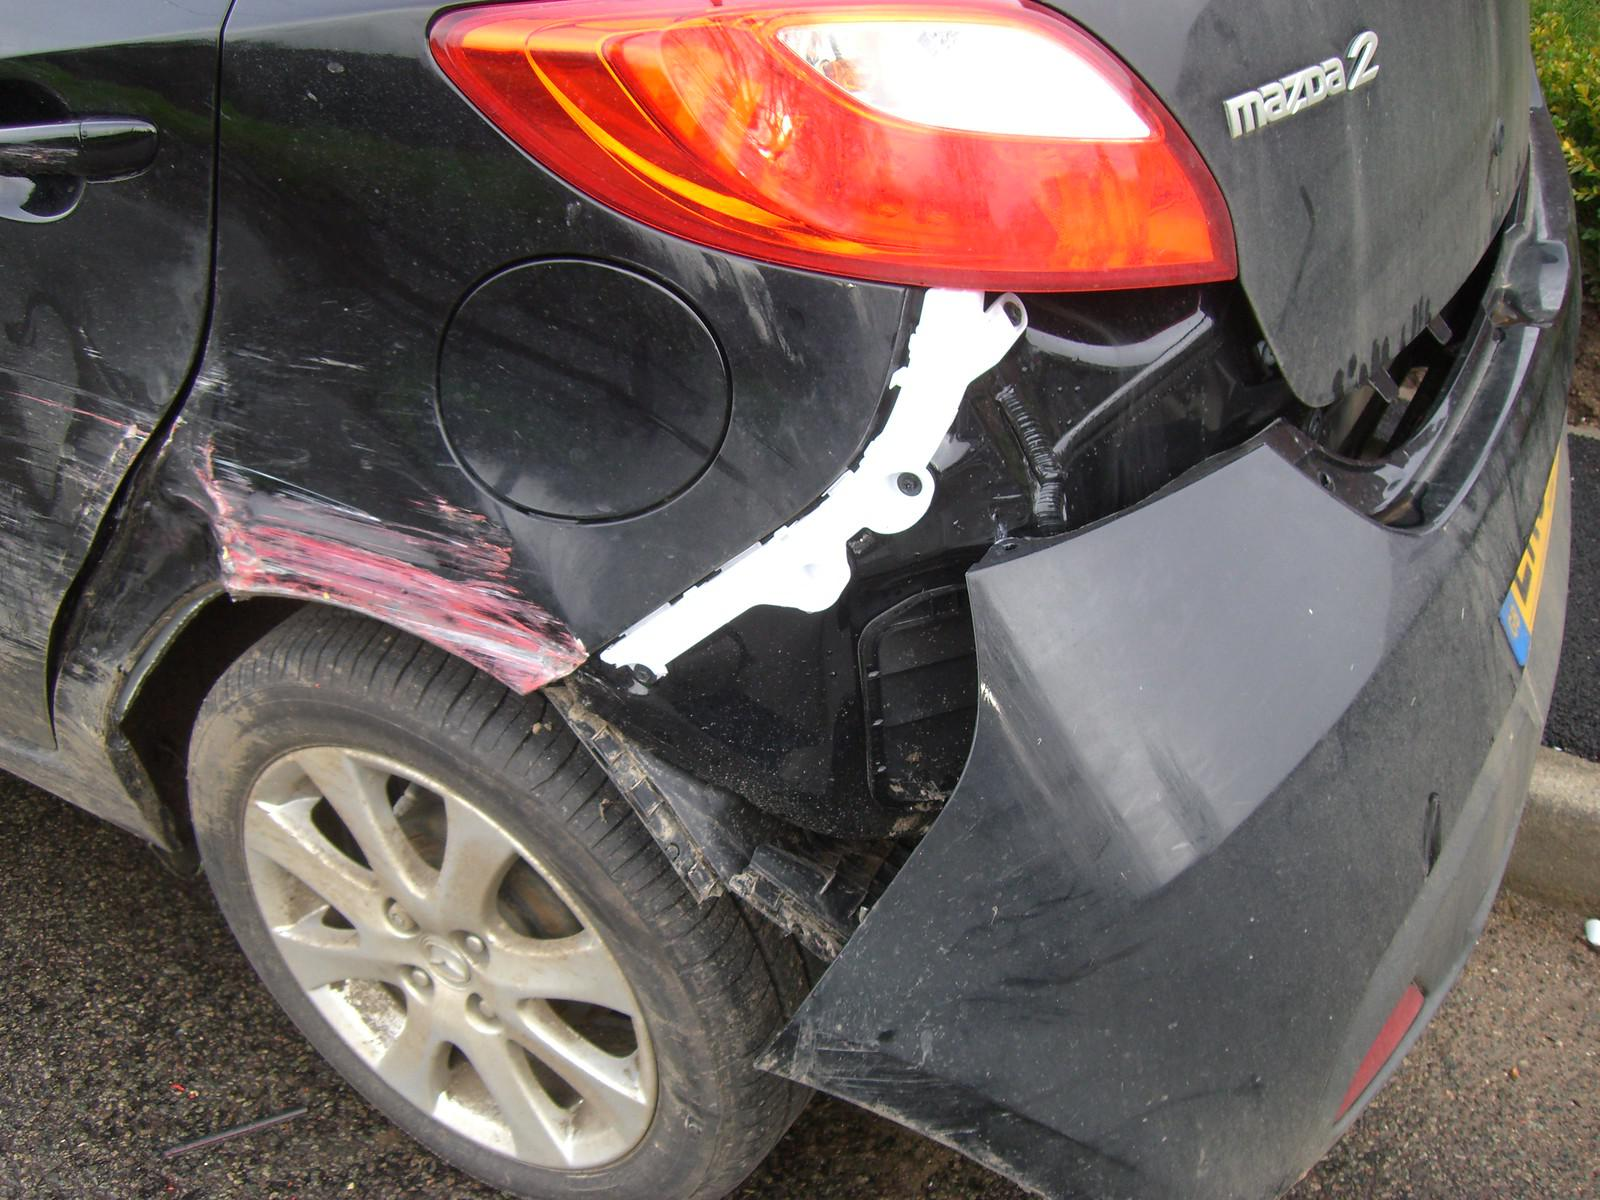quaterpanel-dent: (191, 0, 983, 805)
rear-bumper-dent: (968, 361, 1599, 1074)
